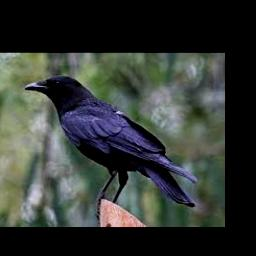Crow: (25, 75, 199, 220)
